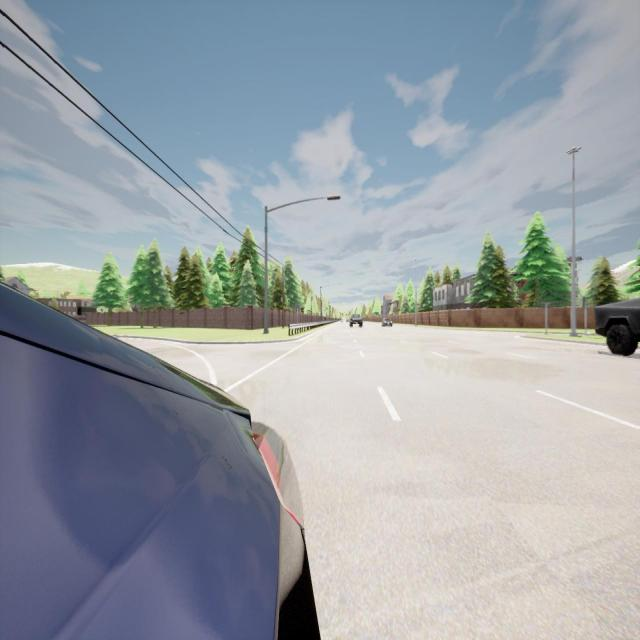Traffic_Signs: (295, 305, 300, 312)
Vehicle: (0, 284, 318, 638), (596, 283, 640, 357), (348, 313, 364, 329), (381, 316, 394, 329)
traffic_light: (582, 297, 586, 308)
